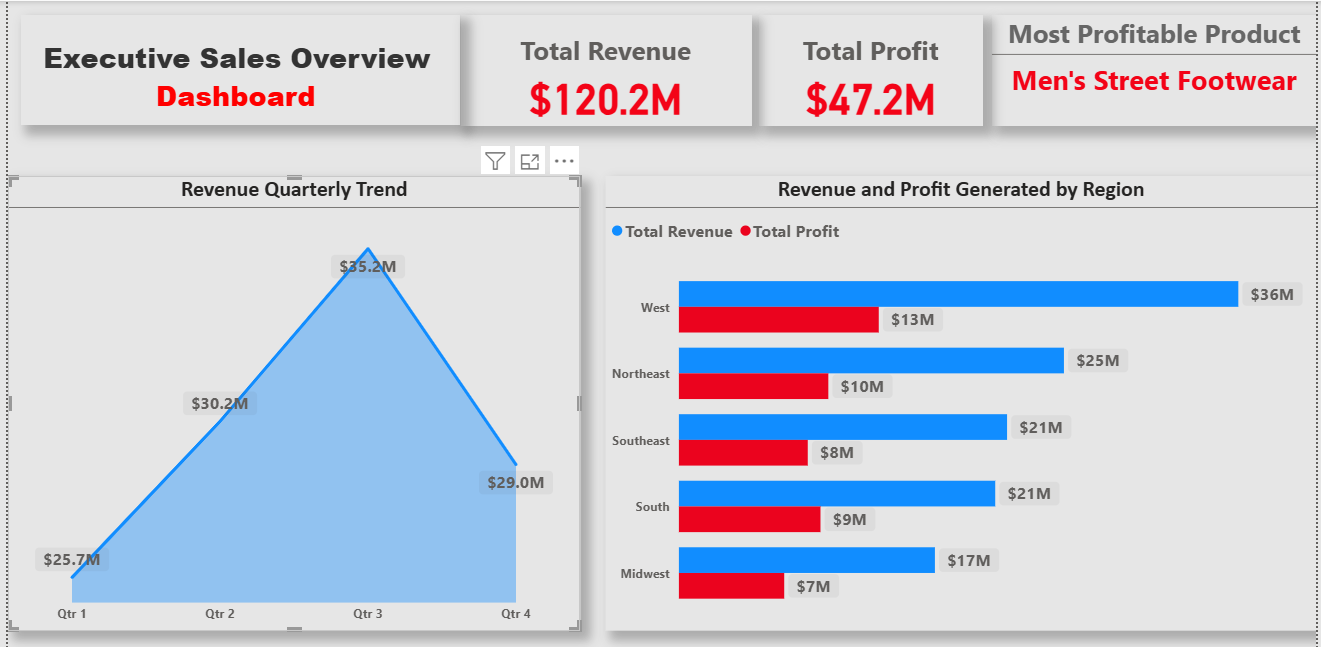

This screenshot's page, from the dashboard's own definition file:
{"tool":"powerbi","page":{"name":"Executive","canvas":[1280,720],"ordinal":1},"visuals":[{"type":"cardVisual","fields":{"Data":["Sheet4.Total Revenue"]},"box":[442.7,13.5,284.9,108.8],"z":0},{"type":"cardVisual","fields":{"Data":["Sheet4.Total profit"]},"box":[734.9,13.5,218.9,108.8],"z":1000},{"type":"textbox","title":"Most Profitable Product","box":[962.4,13.5,317.9,108.8],"z":2000},{"type":"areaChart","title":"Revenue Quarterly Trend","fields":{"Category":["Sheet4.Invoice Date.Variation.Date Hierarchy.Quarter"],"Y":["Sheet4.Total Revenue"]},"box":[0,171.2,560.1,310.6],"z":3000},{"type":"clusteredBarChart","title":"Revenue and Profit Generated by Region","fields":{"Category":["Sheet4.Region"],"Y":["Sum(Sheet4.Revenue)","Sheet4.Total profit"]},"box":[584.5,171.2,695.8,310.6],"z":4000},{"type":"textbox","box":[12.2,13.5,430.4,107.6],"z":5000}]}

Visuals, with their boxes on the page's 1280x720 design canvas (x1, y1, x2, y2). These are canvas units, not pixel positions in the 1321x647 screenshot, which may show the page scaled, cropped or inside an application window:
cardVisual - Sheet4.Total Revenue: <bbox>443, 14, 728, 122</bbox>
cardVisual - Sheet4.Total profit: <bbox>735, 14, 954, 122</bbox>
"Most Profitable Product" textbox: <bbox>962, 14, 1280, 122</bbox>
"Revenue Quarterly Trend" areaChart: <bbox>0, 171, 560, 482</bbox>
"Revenue and Profit Generated by Region" clusteredBarChart: <bbox>584, 171, 1280, 482</bbox>
textbox: <bbox>12, 14, 443, 121</bbox>
